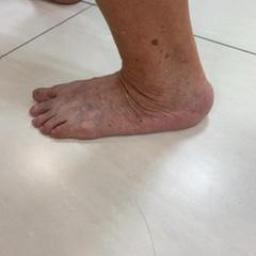Lateral View -Left Foot-: (15, 24, 236, 163)
